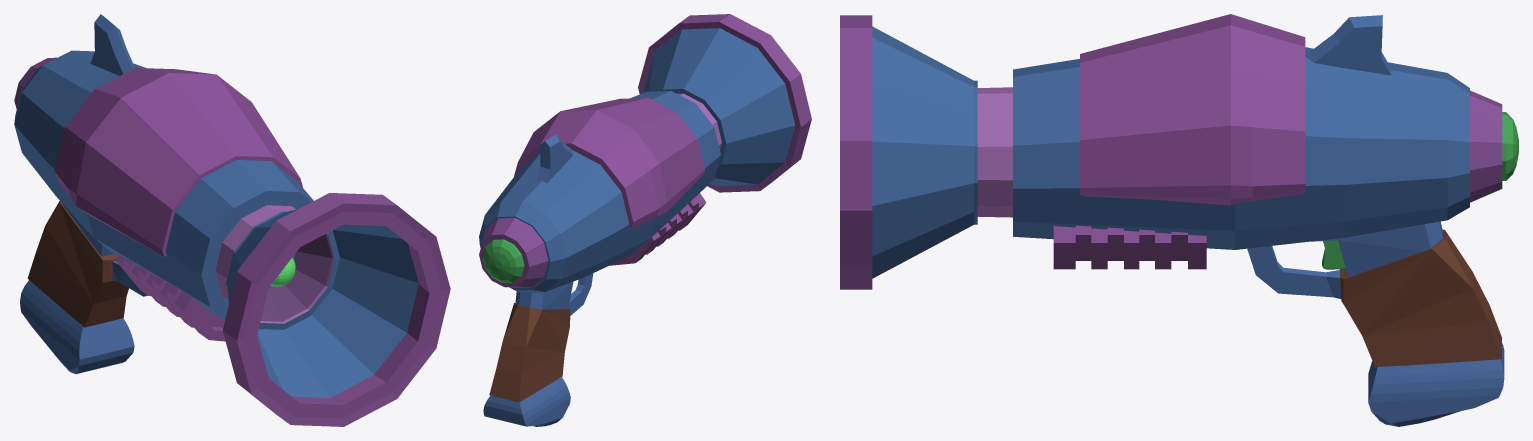
File: Spectre Blaster.fbx
3 views of the same model, side by side, from view 1: azimuth 30°, elevation 25°; view 2: azimuth 150°, elevation 25°; view 3: azimuth 270°, elevation 25° (orthographic). The views are drawn at different scales.
Parts seen in each view (by area): view 1: Cylinder.001, Cylinder.006, Cylinder.004, Cylinder.003, Cylinder.008, Cylinder.002, Cylinder.005; view 2: Cylinder.001, Cylinder.006, Cylinder.004, Cylinder.003, Cylinder.011, Cylinder.002, Cylinder.005; view 3: Cylinder.001, Cylinder.006, Cylinder.004, Cylinder.003, Cylinder.002, Cylinder.005, Cylinder.011.
Boxes of the visible parts, bbox=[...] form: Cylinder.001: bbox=[14, 50, 450, 426]; Cylinder.006: bbox=[54, 68, 302, 257]; Cylinder.004: bbox=[27, 201, 128, 327]; Cylinder.003: bbox=[20, 203, 147, 374]; Cylinder.008: bbox=[261, 234, 332, 321]; Cylinder.002: bbox=[115, 255, 225, 341]; Cylinder.005: bbox=[90, 14, 134, 75]; Cylinder.001: bbox=[479, 14, 811, 292]; Cylinder.006: bbox=[514, 98, 704, 228]; Cylinder.004: bbox=[489, 303, 570, 402]; Cylinder.003: bbox=[483, 273, 593, 426]; Cylinder.011: bbox=[482, 239, 524, 283]; Cylinder.002: bbox=[609, 193, 706, 265]; Cylinder.005: bbox=[537, 134, 573, 183]; Cylinder.001: bbox=[840, 15, 1502, 289]; Cylinder.006: bbox=[1080, 14, 1305, 205]; Cylinder.004: bbox=[1340, 229, 1501, 367]; Cylinder.003: bbox=[1247, 221, 1504, 426]; Cylinder.002: bbox=[1053, 225, 1206, 269]; Cylinder.005: bbox=[1305, 15, 1391, 75]; Cylinder.011: bbox=[1502, 112, 1518, 180].
Size of the model in its own units: 680 by 1087 by 1676.
